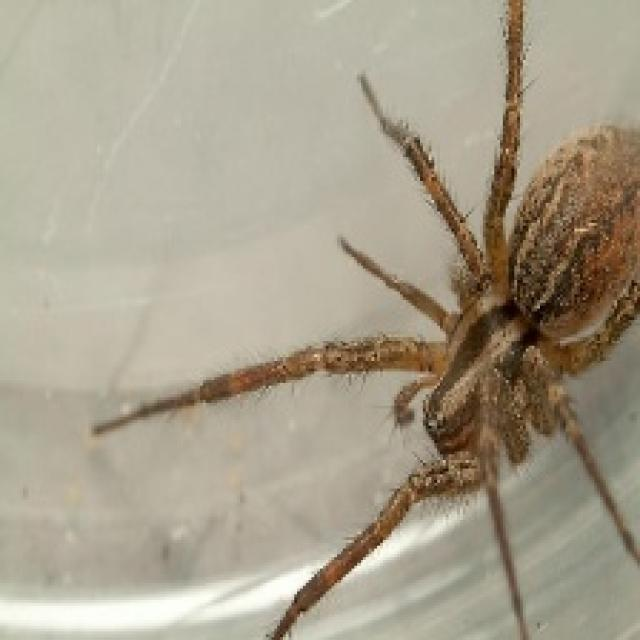Non venomous spider: (69, 51, 640, 639)
